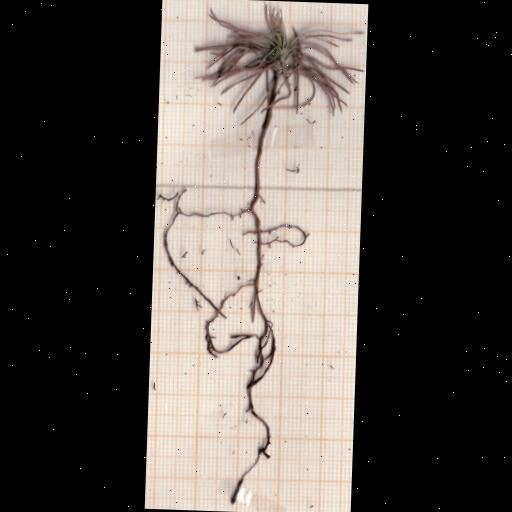flowerCedr: (198, 4, 355, 113)
rootCedr: (153, 191, 308, 503), (304, 234, 308, 241)
stemCedr: (251, 103, 272, 202)
